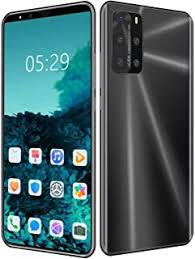Smartphone: (94, 4, 192, 254), (6, 12, 94, 254)
